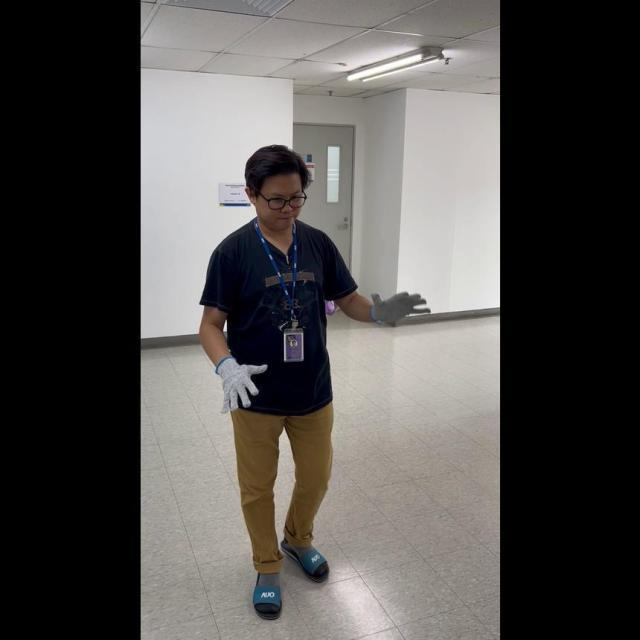gloved_hand: (214, 352, 266, 412), (366, 284, 428, 327)
